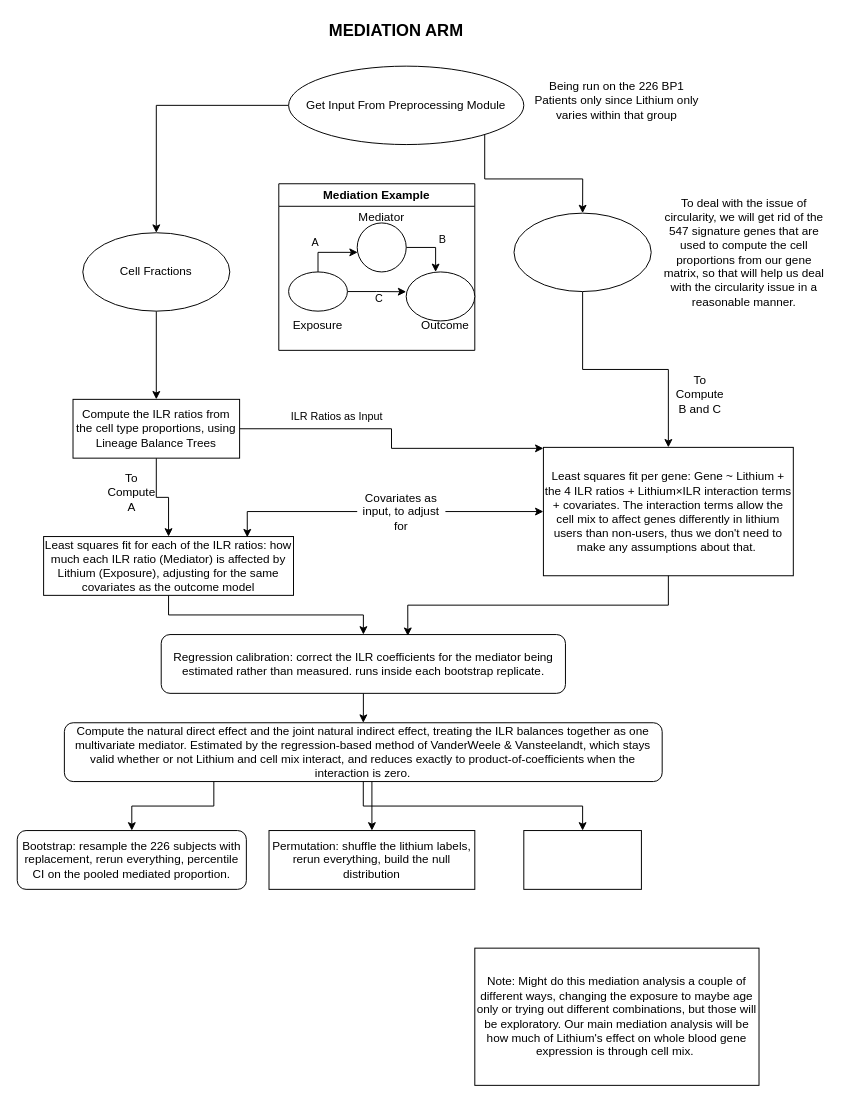
This 845x1103 diagram has some shape labels left out. The box of each missing label's shape, as (x1, y1, x2, y2) in pixels:
Benjamini-Hochberg across the tested genes: (523, 830, 641, 889)
Cell Mix: (356, 222, 406, 272)
Gene Exp.: (405, 271, 475, 321)
Gene Matrix: (513, 212, 651, 292)
Lithium: (288, 271, 347, 311)
